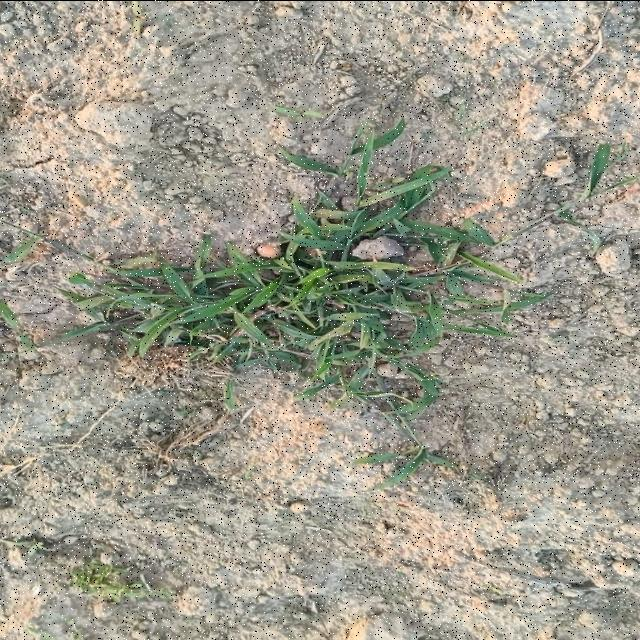weed: (57, 119, 548, 432), (64, 120, 545, 418)
